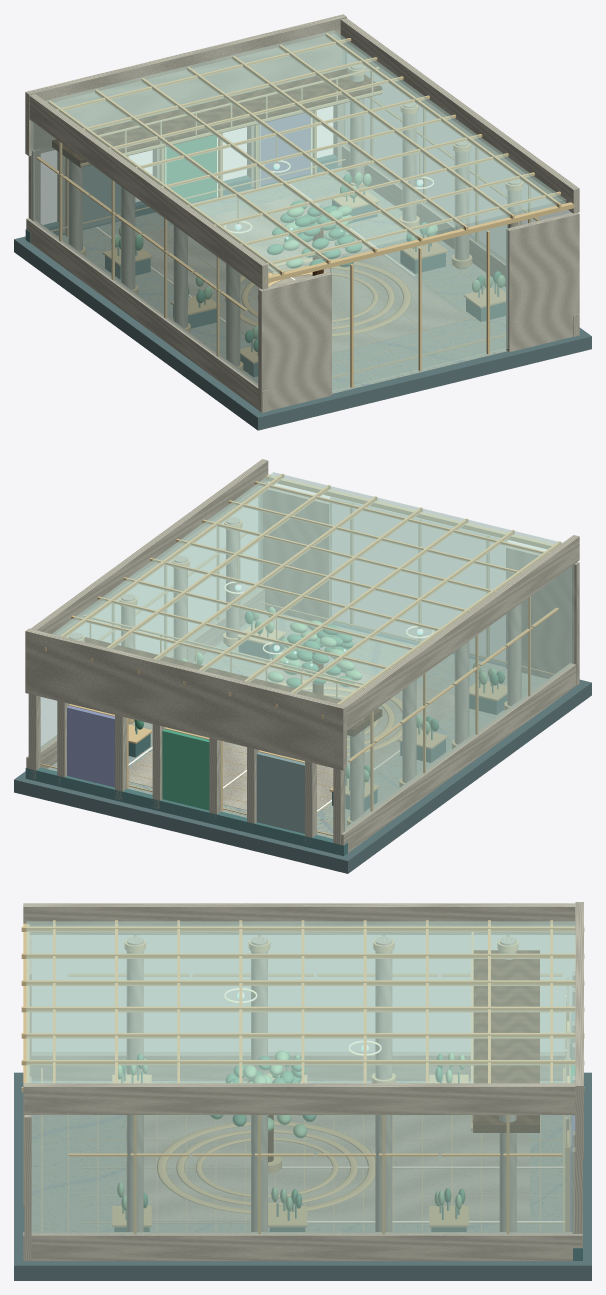
File: atrium.glb
3 renders of one model, top to bottom at view 1: azimuth 30°, elevation 25°; view 2: azimuth 150°, elevation 25°; view 3: azimuth 270°, elevation 25°, orthographic. The views are drawn at different scales.
Visible parts, largest first — view 1: skylight.prism, side.glazing.-1, entry.front-glass, foundation.terrazzo, rear.header.stone, floor.center-runner, foundation.mass, entry.east-pier, entry.west-pier, side.glazing.1, side.roofline.-1, side.roofline.1 (+37 smaller); view 2: skylight.prism, side.glazing.-1, rear.header.stone, entry.front-glass, foundation.mass, side.glazing.1, foundation.terrazzo, side.roofline.-1, entry.east-pier, side.parapet.-1, side.roofline.1, entry.west-pier (+38 smaller); view 3: skylight.prism, side.glazing.1, side.glazing.-1, floor.center-runner, side.roofline.1, foundation.terrazzo, side.parapet.1, foundation.mass, side.roofline.-1, mezzanine.gallery, side.parapet.-1, roof.arch-rib.0 (+24 smaller).
Boxes of the visible parts, box(x1,y1,x2,y2) form: skylight.prism: box(46, 30, 566, 274); side.glazing.-1: box(31, 121, 259, 385); entry.front-glass: box(330, 224, 508, 391); foundation.terrazzo: box(62, 167, 507, 393); rear.header.stone: box(25, 14, 346, 156); floor.center-runner: box(120, 195, 469, 352); foundation.mass: box(14, 236, 591, 430); entry.east-pier: box(506, 212, 579, 352); entry.west-pier: box(258, 272, 331, 412); side.glazing.1: box(343, 50, 571, 261); side.roofline.-1: box(29, 94, 268, 289); side.roofline.1: box(340, 18, 579, 213); skylight.prism: box(52, 472, 562, 704); side.glazing.-1: box(344, 565, 573, 831); rear.header.stone: box(25, 628, 346, 770); entry.front-glass: box(330, 497, 507, 664); foundation.mass: box(14, 622, 591, 873); side.glazing.1: box(40, 495, 260, 750); foundation.terrazzo: box(47, 610, 547, 838); side.roofline.-1: box(342, 535, 579, 730); entry.east-pier: box(259, 488, 331, 623); side.parapet.-1: box(341, 663, 576, 852); side.roofline.1: box(30, 459, 268, 635); entry.west-pier: box(506, 546, 579, 685); skylight.prism: box(26, 921, 575, 1083); side.glazing.1: box(31, 1115, 574, 1234); side.glazing.-1: box(31, 935, 574, 1052); floor.center-runner: box(126, 1115, 529, 1221); side.roofline.1: box(23, 1083, 575, 1114); foundation.terrazzo: box(32, 1081, 562, 1231); side.parapet.1: box(23, 1232, 582, 1260); foundation.mass: box(14, 1072, 591, 1280); side.roofline.-1: box(23, 903, 575, 934); mezzanine.gallery: box(473, 950, 539, 1132); side.parapet.-1: box(32, 1052, 564, 1080); roof.arch-rib.0: box(21, 1006, 584, 1012).
Bounding box in the file's own units: 14.7 × 6.76 × 18.6.
15 materials, 3 textured.
